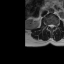CCS_normal: (50, 22, 52, 30)
LFS_normal: (54, 23, 56, 28)
LLS_normal: (52, 23, 54, 29)
RFS_normal: (47, 22, 49, 28)
RLS_normal: (48, 23, 50, 28)
